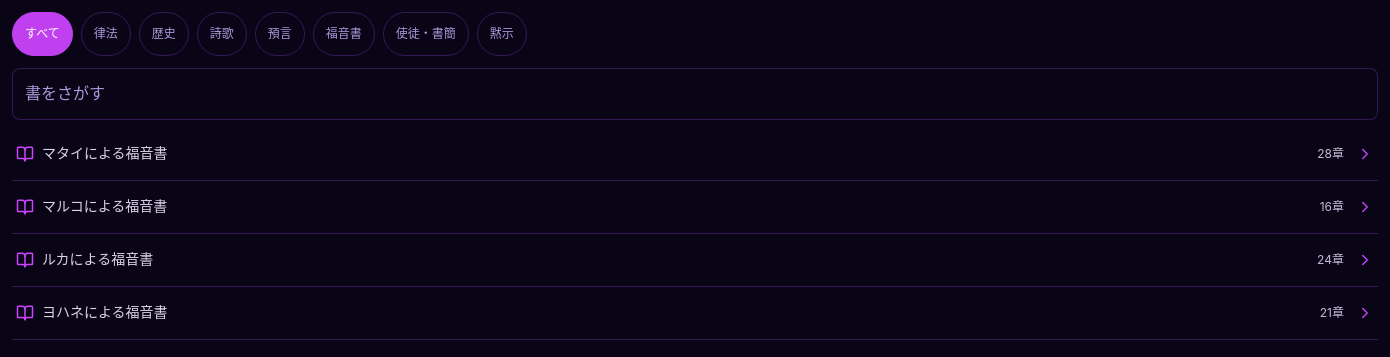
Test case: 章を選ぶところ › 上限に達していると足せない
In the search field with placeholder "書をさがす": (695, 94) [12,68,1378,120], type "マルコ"
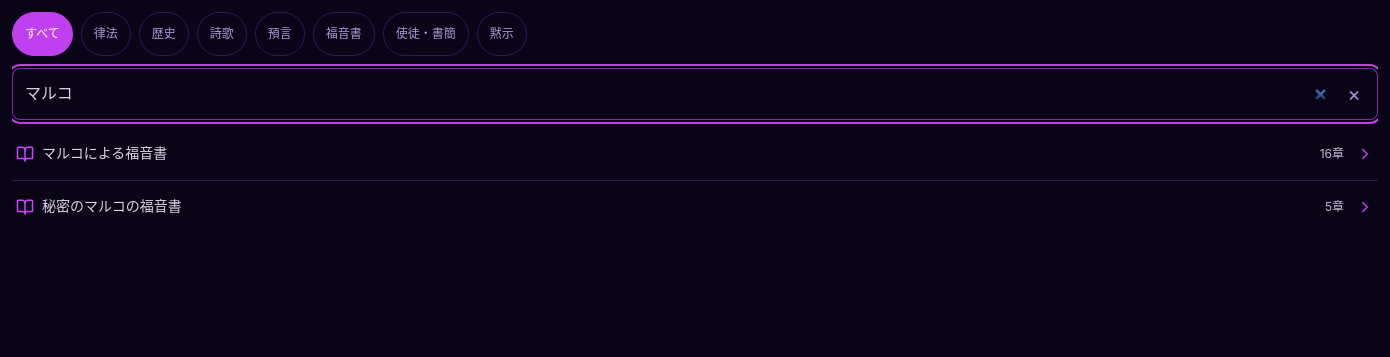
Click the button "マルコによる福音書": (105, 153) [16,132,1308,176]
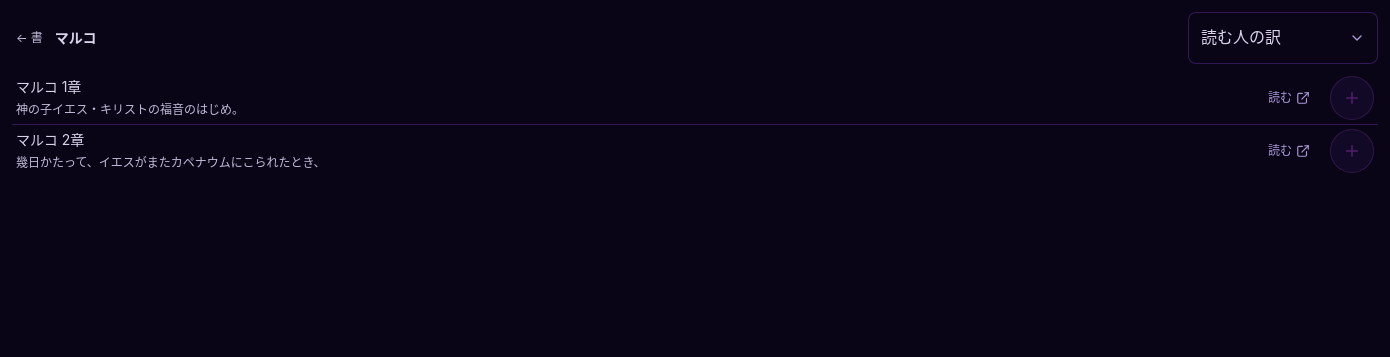
Expected: the button named "マルコ 1章を足す" is disabled, [1330,76,1374,120]
